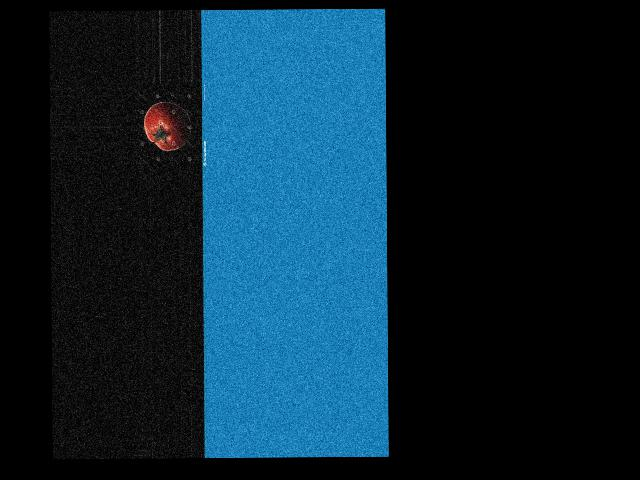tomato: (144, 101, 191, 151)
